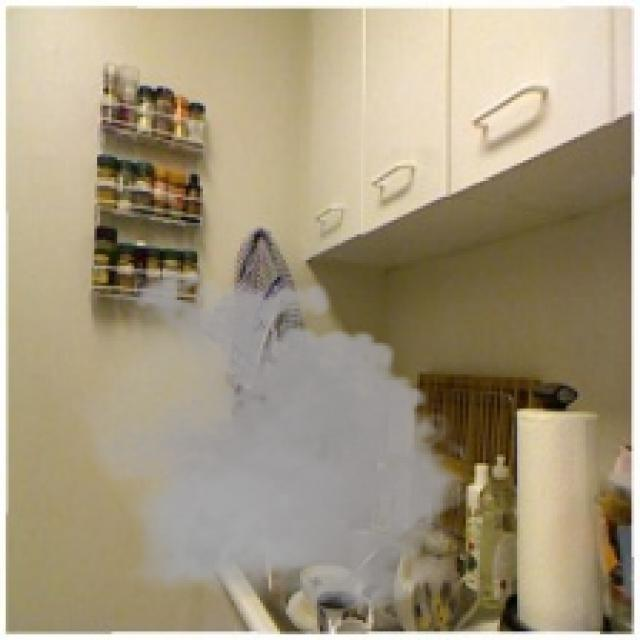Smoke: (68, 260, 480, 623)
